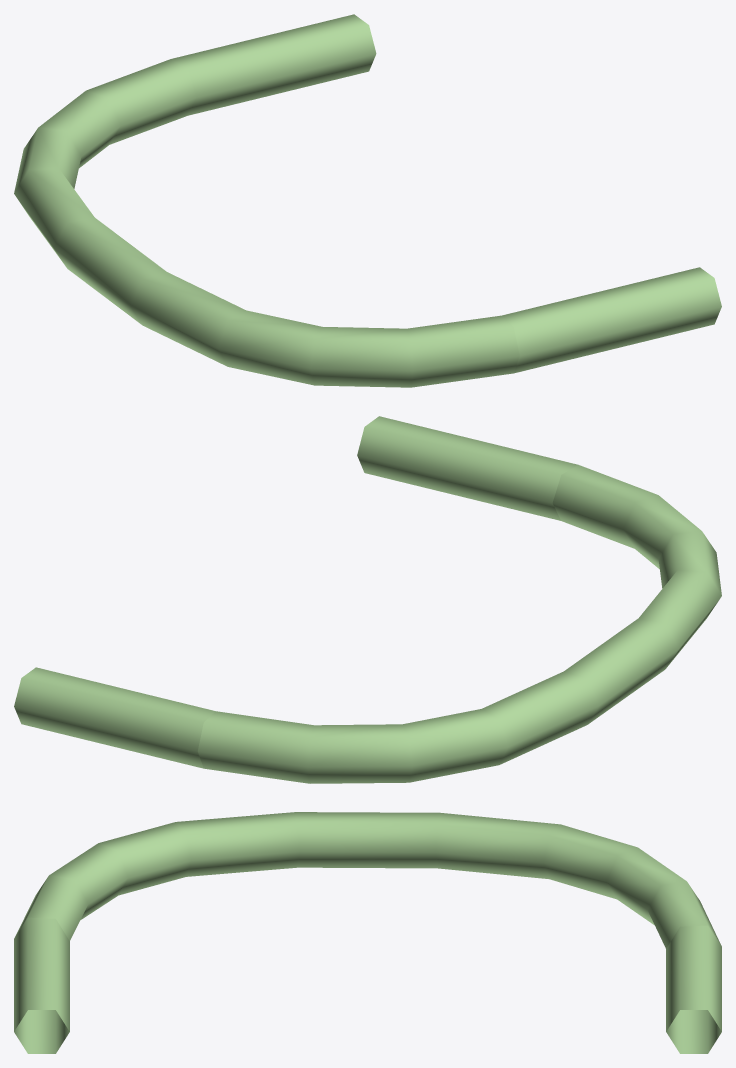
The model's file is met decor 03 cap.FBX.
3 views of the same model, one above another, from view 1: azimuth 30°, elevation 25°; view 2: azimuth 150°, elevation 25°; view 3: azimuth 270°, elevation 25° (orthographic). The views are drawn at different scales.
Parts seen in each view (by area): view 1: Line011; view 2: Line011; view 3: Line011.
Part boxes in pixels (box(x1,y1,x2,y2)): Line011: box(14, 14, 721, 387); Line011: box(14, 416, 721, 783); Line011: box(14, 812, 721, 1053).
Bounding box in the file's own units: 0.6049 × 0.0606 × 0.8874.
